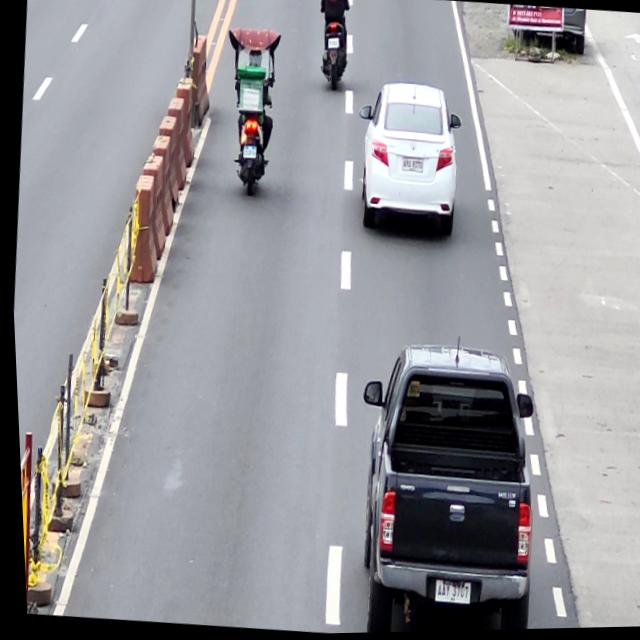Car: (336, 336, 546, 634), (347, 78, 468, 242)
License-Plate: (428, 579, 466, 609), (398, 158, 422, 176), (240, 145, 255, 161), (326, 38, 338, 50)
Motorcycle: (222, 74, 277, 196), (313, 0, 354, 97)
